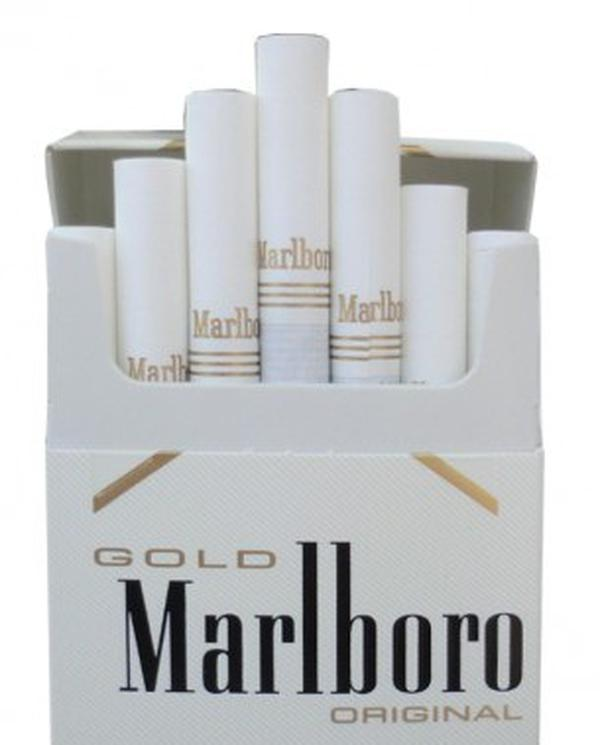marlboro_gold: (49, 238, 539, 744)
